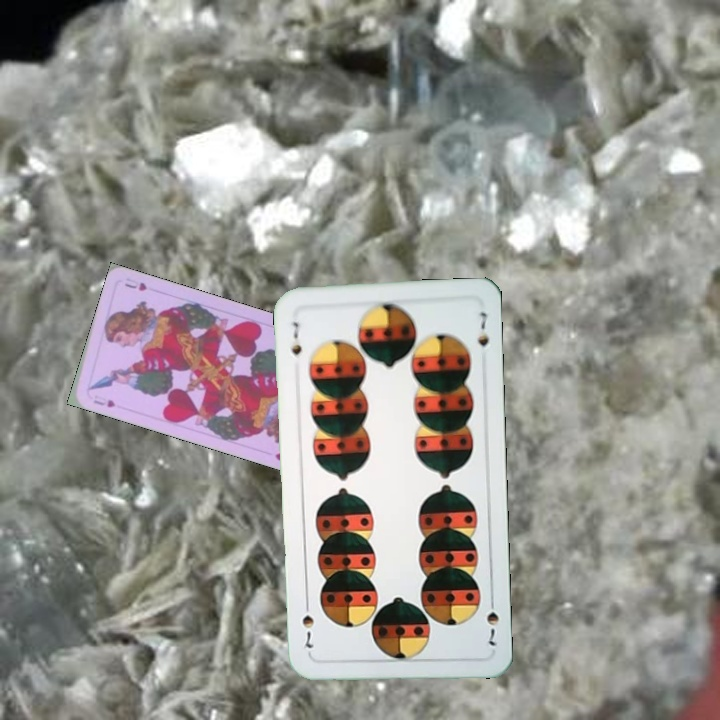HU: (89, 391, 118, 410)
S7: (483, 592, 501, 648), (287, 317, 304, 358)
